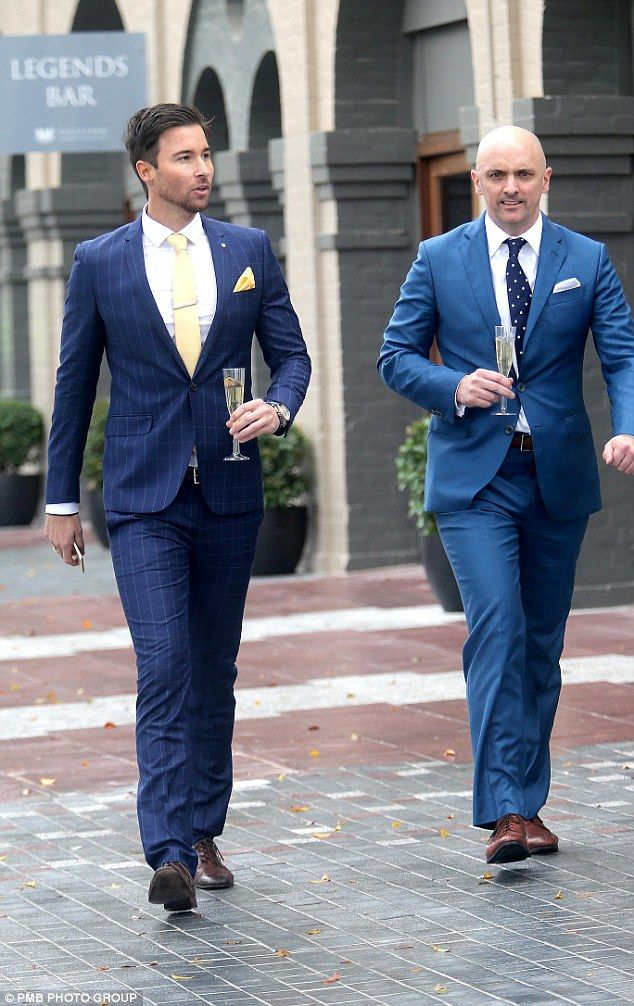Person: (40, 102, 319, 917), (377, 121, 634, 870)
